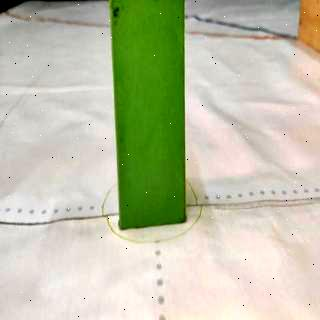greenbox: (111, 0, 186, 230)
